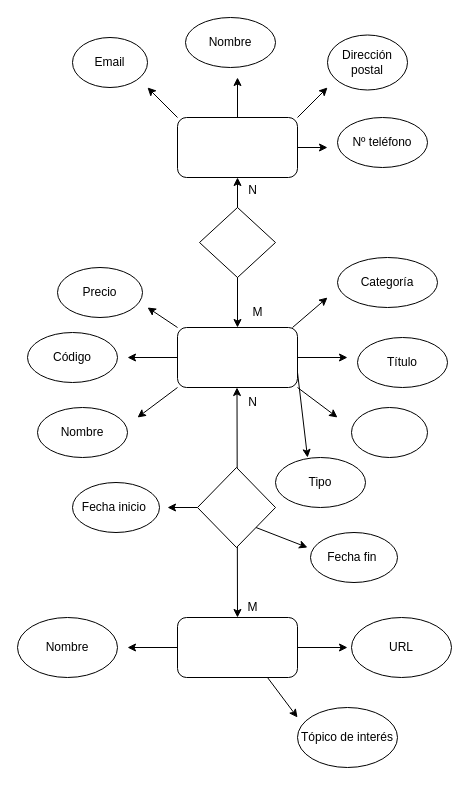
Some shapes in this 469 by 785 pixel diagram are drawn without their labels. Here are the shapes that lost their labels. From the top down, the box of each, then its label:
(176, 116, 298, 178): Cliente
(198, 206, 276, 278): Contrata
(176, 326, 298, 388): Anuncio
(350, 406, 428, 458): Contenido
(196, 466, 276, 548): Aparece
(176, 616, 298, 678): Página web
